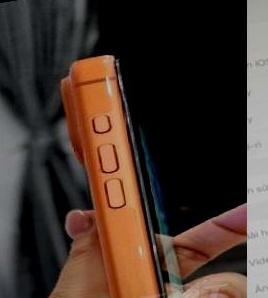physical_damage: (98, 50, 121, 70)
scratch: (125, 235, 158, 267)
